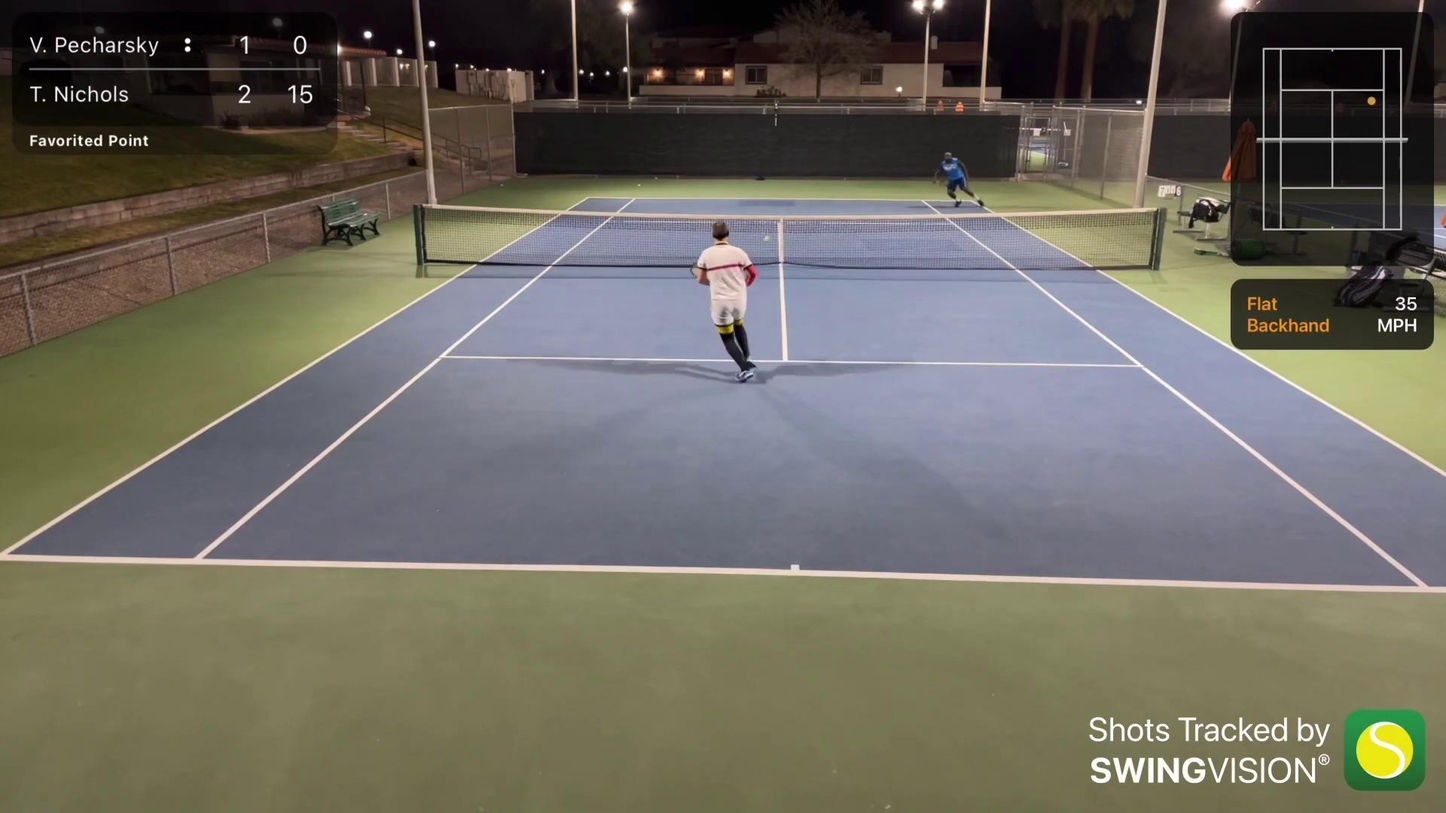ball: (761, 236, 772, 243)
